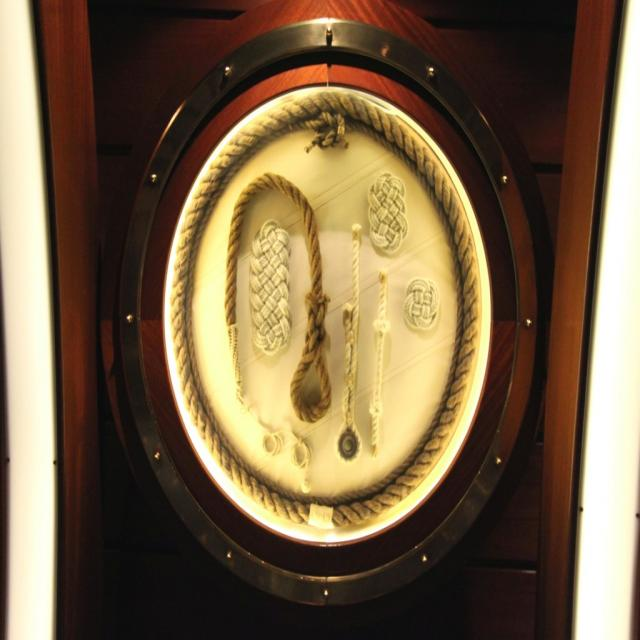non-organic waste: (125, 40, 502, 615)
